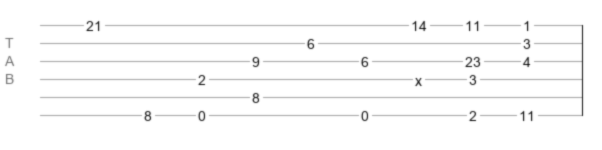0: (198, 108, 206, 118), (361, 108, 369, 118)
1: (523, 18, 531, 28)
11: (465, 18, 481, 28), (519, 108, 535, 118)
14: (411, 18, 427, 28)
2: (198, 72, 206, 82), (469, 108, 477, 118)
21: (86, 18, 102, 28)
23: (465, 54, 481, 64)
3: (469, 72, 477, 82), (523, 36, 531, 46)
4: (523, 54, 531, 64)
6: (307, 36, 315, 46), (361, 54, 369, 64)
8: (144, 108, 152, 118), (252, 90, 260, 100)
9: (252, 54, 260, 64)
x: (415, 73, 422, 81)
